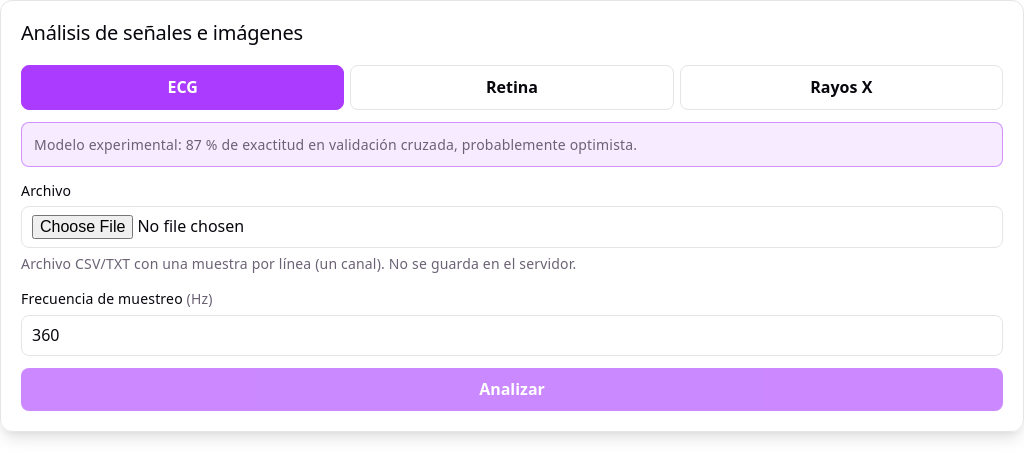
Test: AnalysisPanel › avisa cuando no hay modelo para rayos X y no ofrece subir archivos
Click the tab "Rayos X" at point(841, 87), box top-left (680, 65), bottom-right (1003, 110)
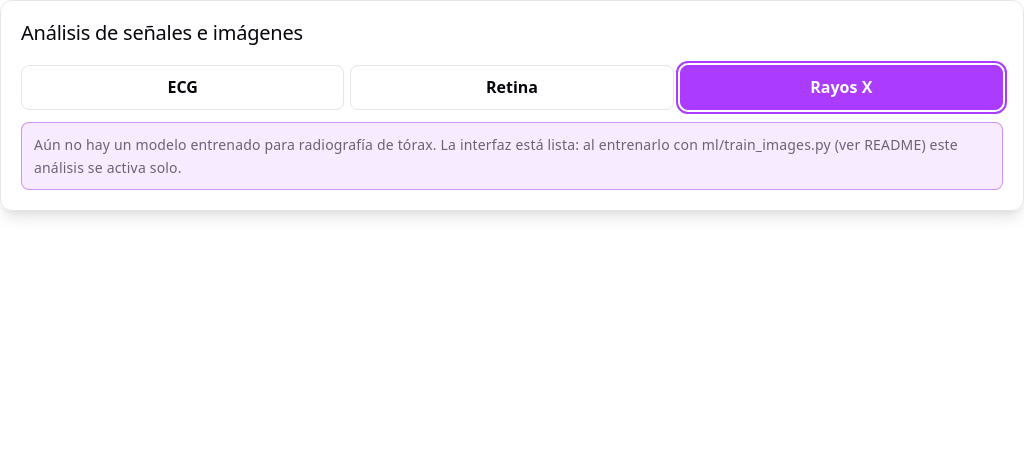
Result: the text "Aún no hay un modelo entrenado" is shown at top-left (34, 135), bottom-right (299, 154)
Result: the button "Analizar" is gone
